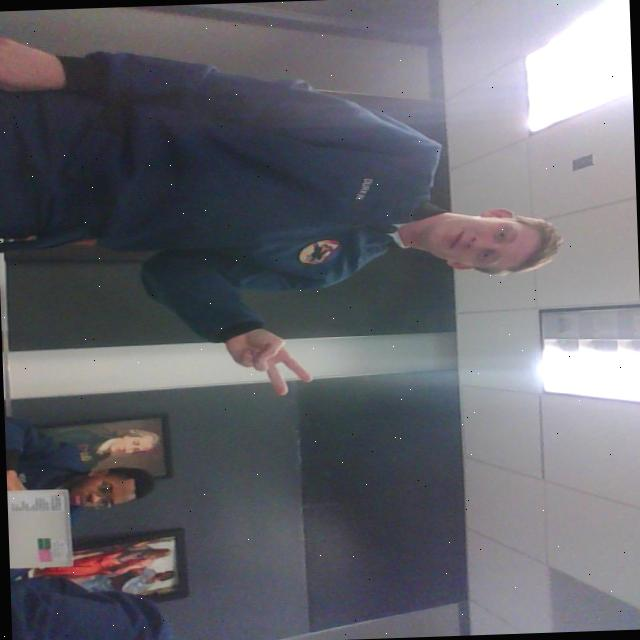scissors: (220, 322, 314, 402)
